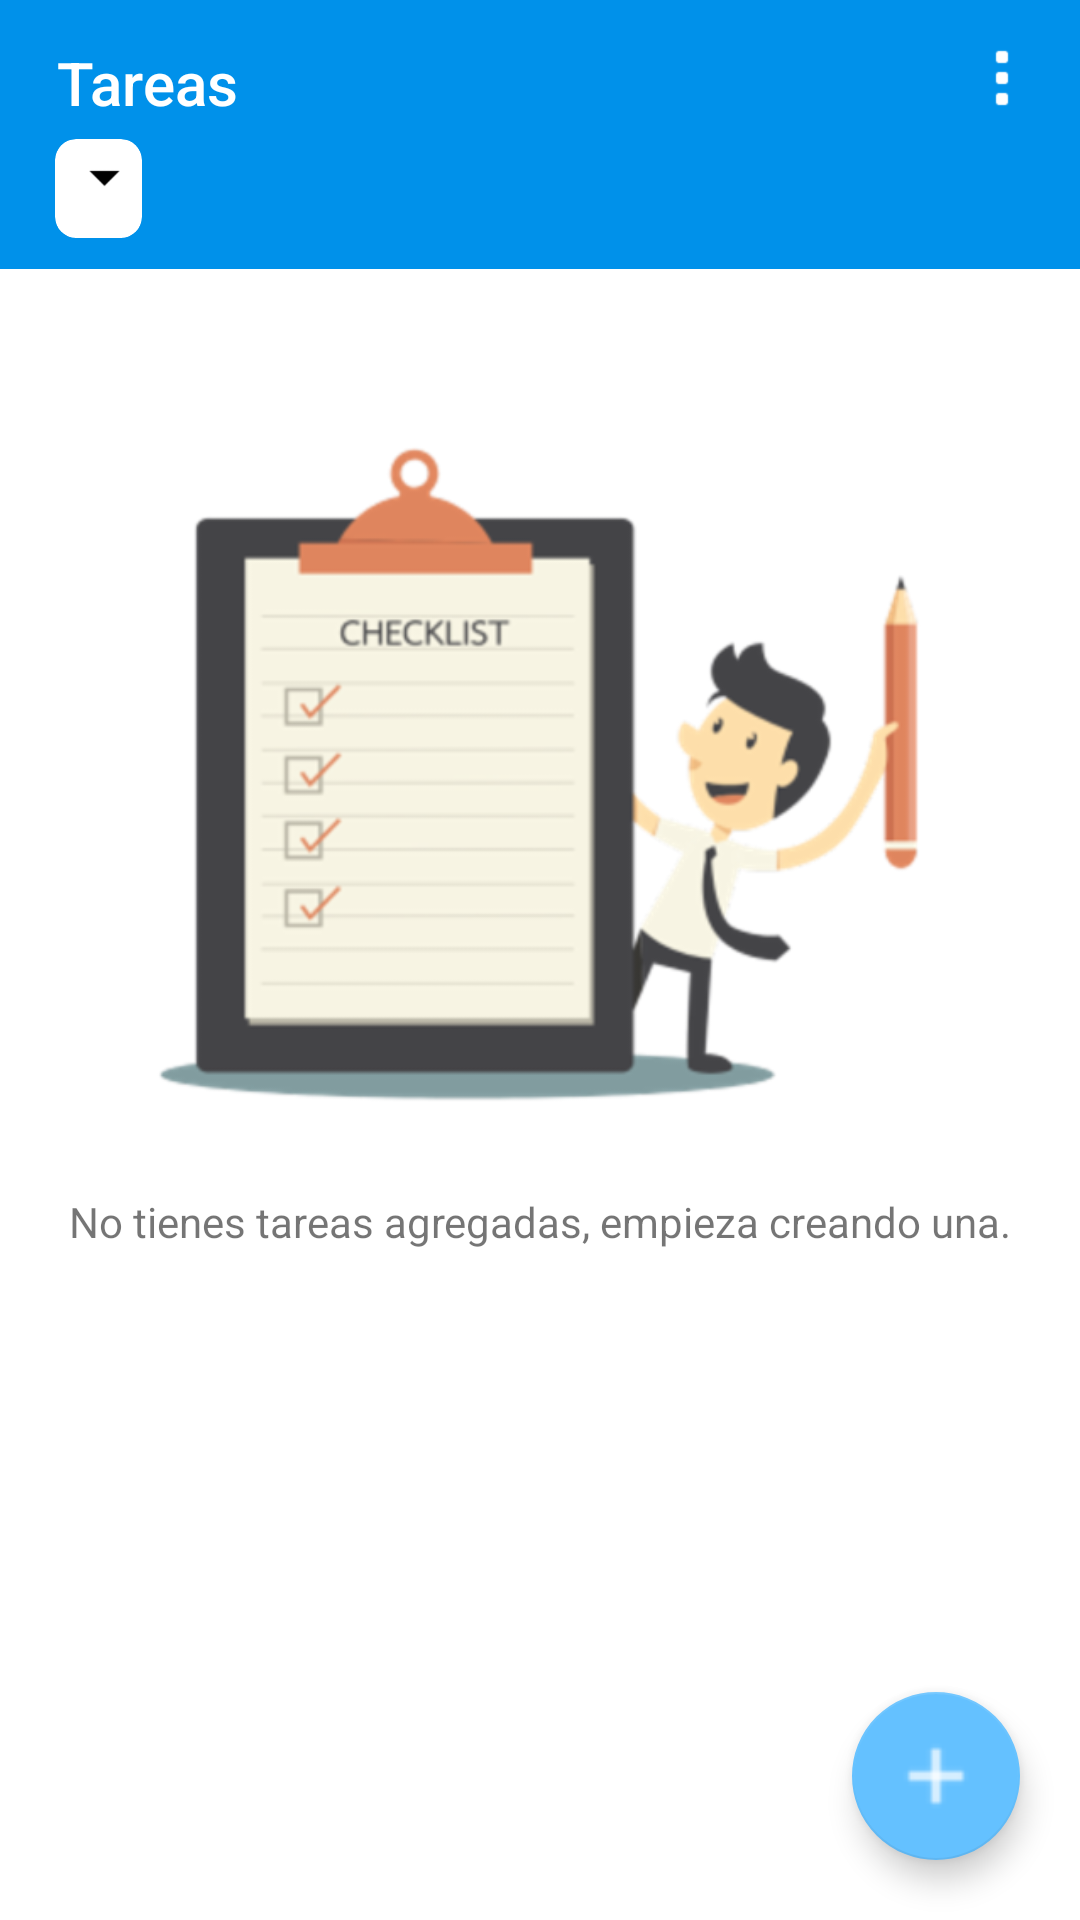

Icon bounding boxes for this 1080px×1920px phone screenshot, format (x1, y1, x2, y2):
arrow: (89, 170, 120, 186)
menu: (995, 50, 1009, 106)
plus: (852, 1692, 1020, 1860)
